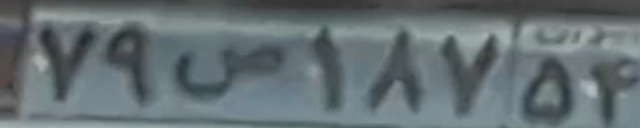1: (310, 29, 343, 108)
4: (584, 57, 638, 124)
5: (520, 56, 574, 124)
7: (440, 31, 499, 117), (37, 22, 95, 104)
8: (363, 27, 429, 112)
9: (106, 23, 158, 104)
saat: (171, 43, 284, 101)
